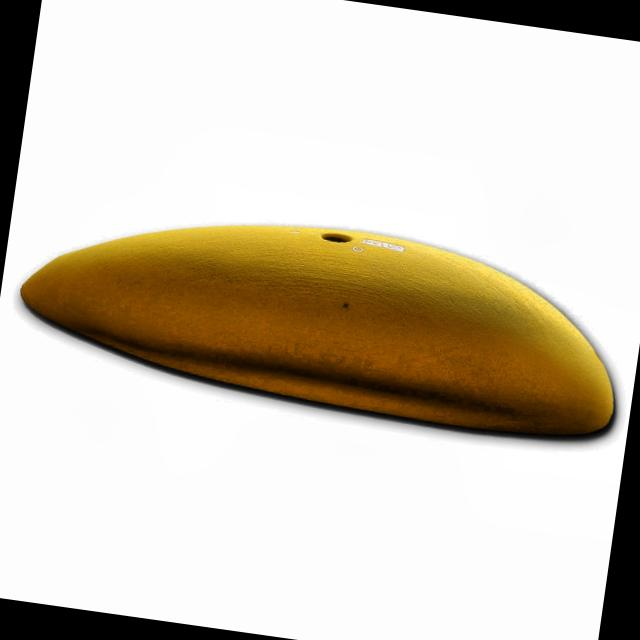Hold: (8, 178, 640, 454)
